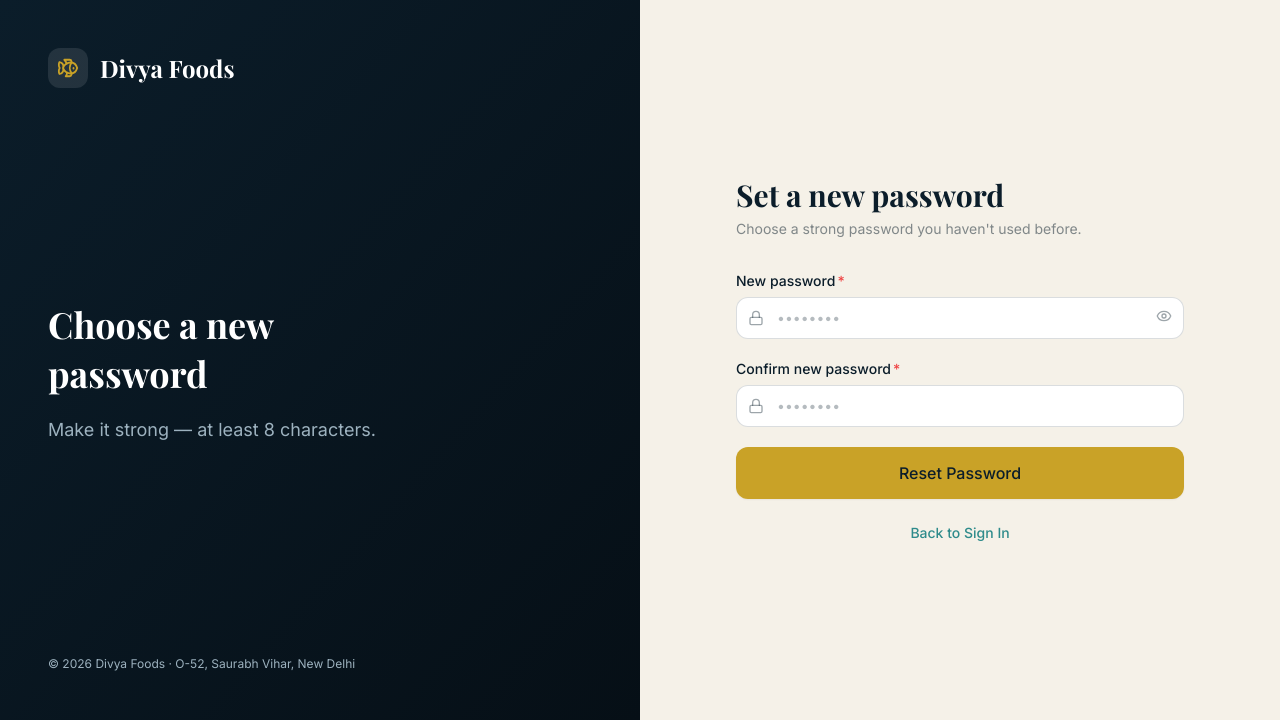
Test: ResetPasswordPage › rejects mismatched password confirmation
This screenshot has width=1280, height=720.
Type "password123" into the password field labelled "New password*" at (960, 318), box x1=736 y1=297 x2=1184 y2=339
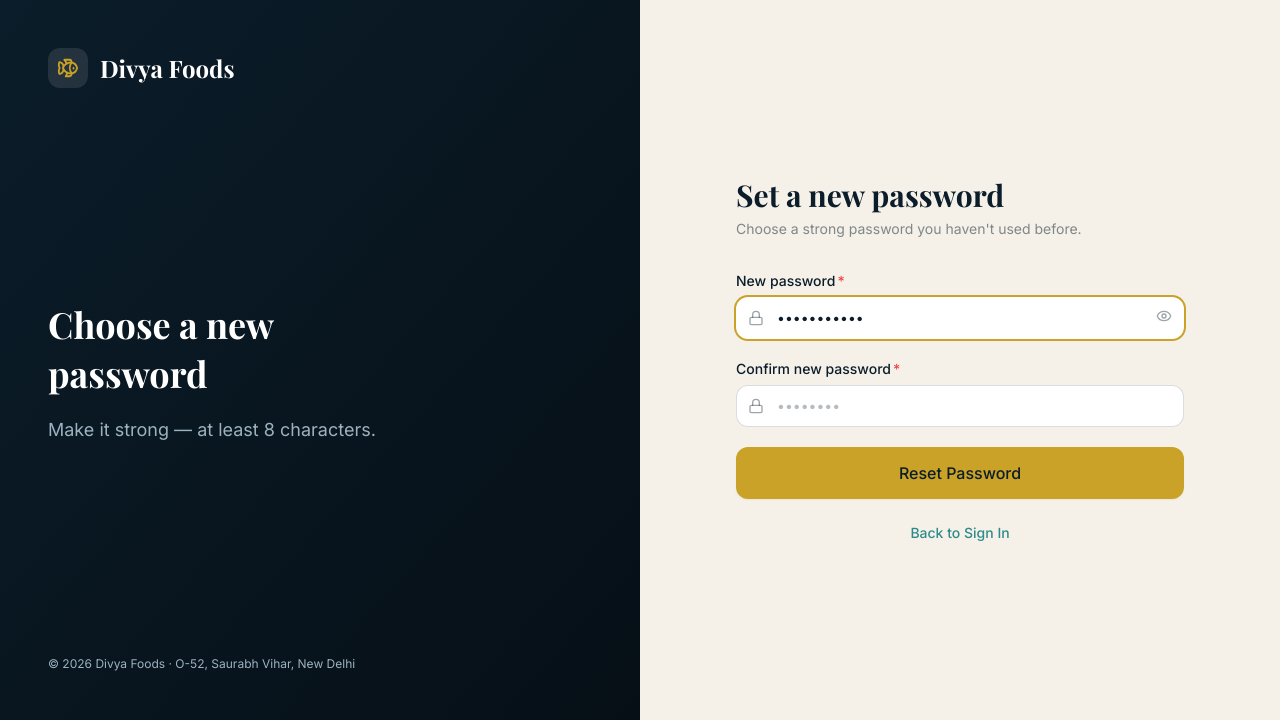
Type "different123" into the password field labelled "Confirm new password*" at (960, 406), box x1=736 y1=385 x2=1184 y2=427
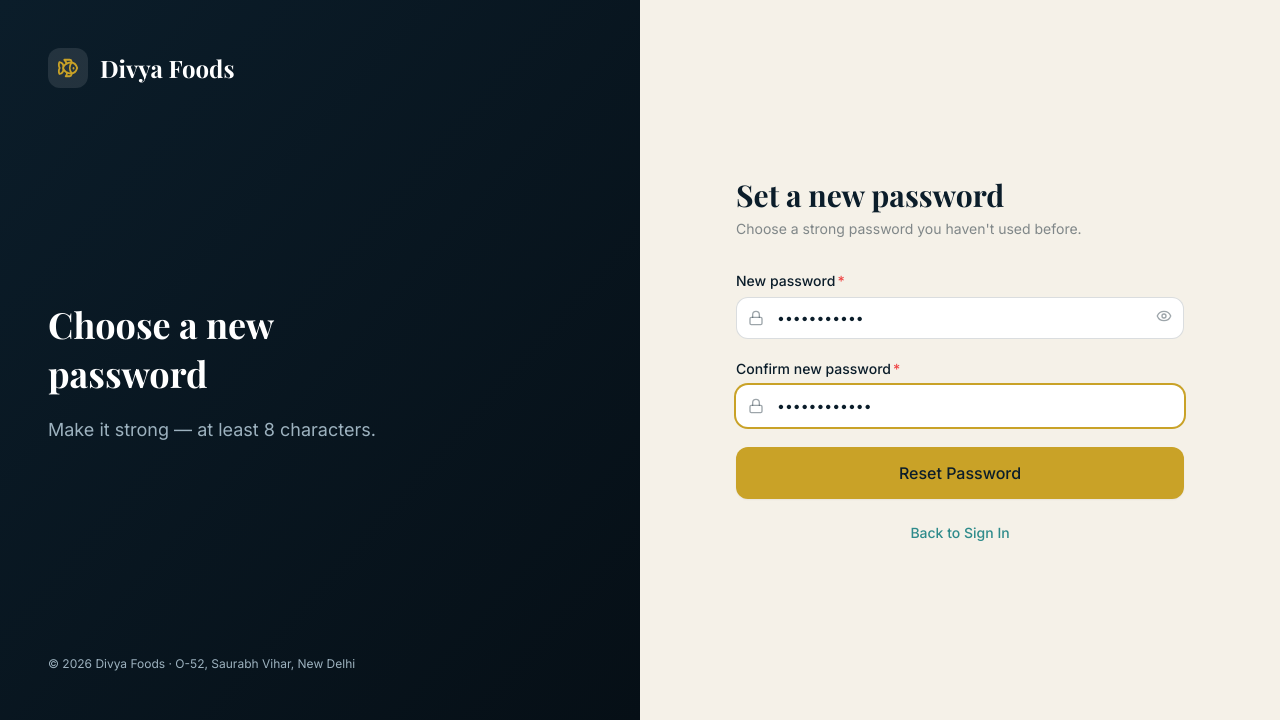
Click the button "Reset Password" at (960, 473), box x1=736 y1=447 x2=1184 y2=499
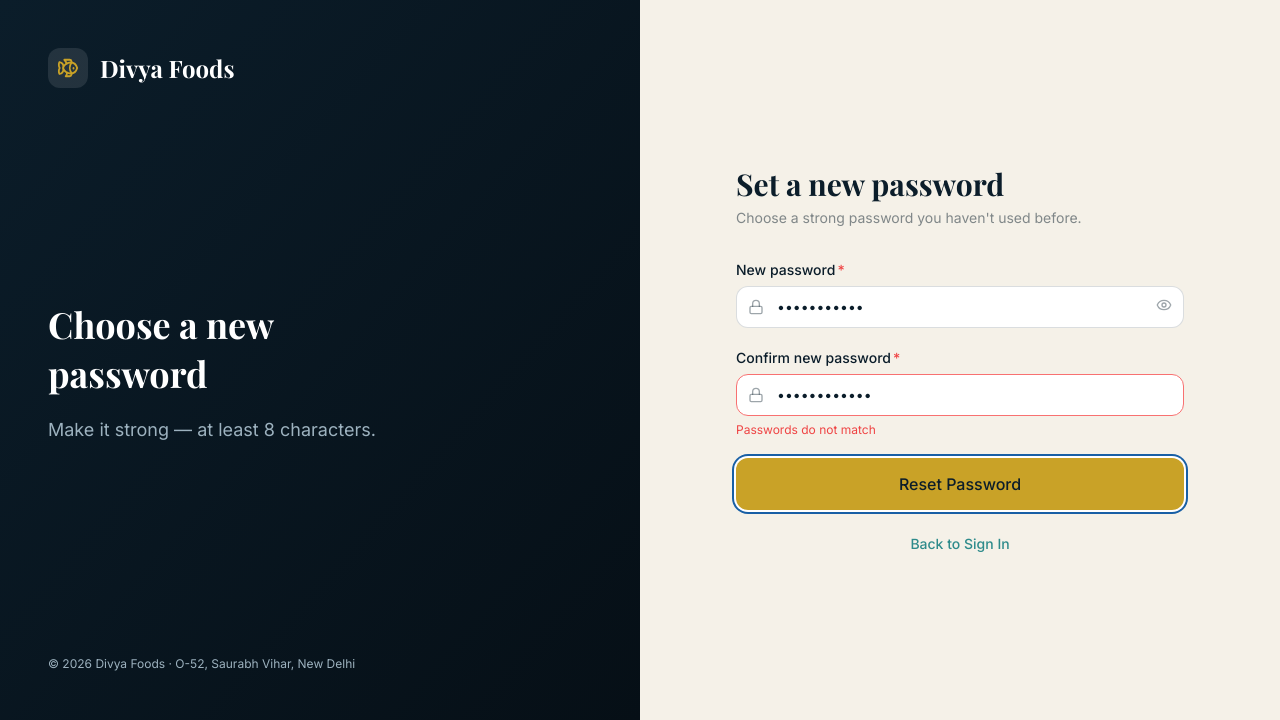
Expected: the text "Passwords do not match" is shown, x1=736 y1=422 x2=876 y2=437
